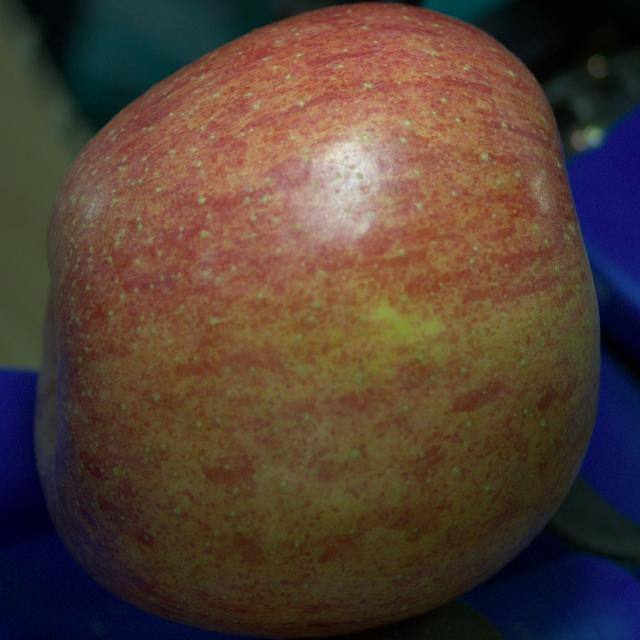apple: (34, 4, 600, 638)
